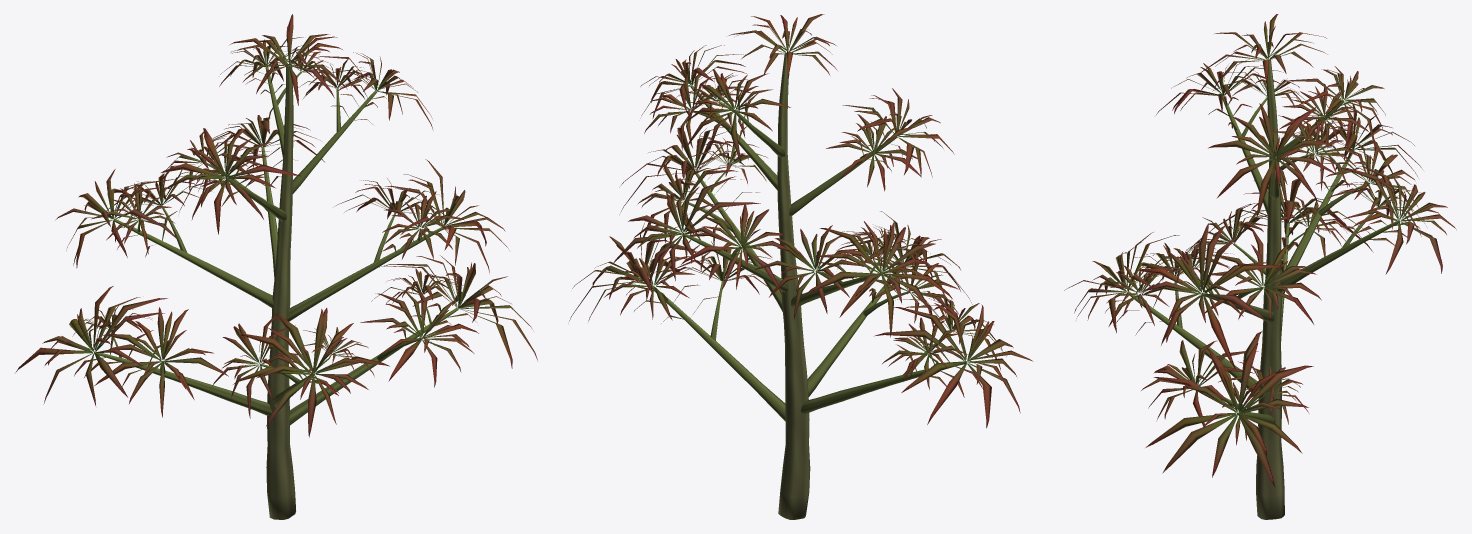
File: alien_plant.glb
The picture shows the model from 3 angles, left to right: view 1: azimuth 30°, elevation 25°; view 2: azimuth 150°, elevation 25°; view 3: azimuth 270°, elevation 25°; orthographic projection. The views are drawn at different scales.
Visible parts, largest first — view 1: Alien_Desert_Plant; view 2: Alien_Desert_Plant; view 3: Alien_Desert_Plant.
Part boxes in pixels (x1,y1,x2,y2): Alien_Desert_Plant: (15,14,537,519); Alien_Desert_Plant: (569,14,1032,519); Alien_Desert_Plant: (1064,14,1456,519).
Bounding box in the file's own units: 3.31 × 3.34 × 2.41.
